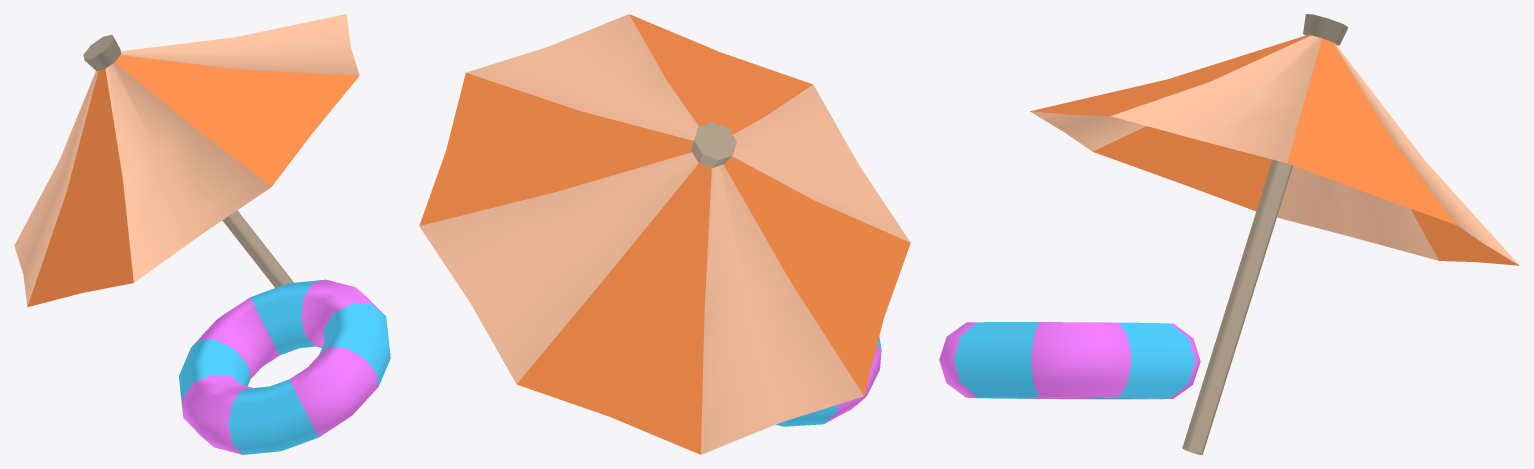
Rendered from prop4.glb.
3 views of the same model, side by side, from view 1: azimuth 30°, elevation 25°; view 2: azimuth 150°, elevation 25°; view 3: azimuth 270°, elevation 25° (orthographic). The views are drawn at different scales.
Visible parts, largest first — view 1: Cylinder.004_bgr_beach.001_0; view 2: Cylinder.004_bgr_beach.001_0; view 3: Cylinder.004_bgr_beach.001_0.
Part boxes in pixels (x1,y1,x2,y2): Cylinder.004_bgr_beach.001_0: [14, 14, 390, 454]; Cylinder.004_bgr_beach.001_0: [419, 14, 910, 454]; Cylinder.004_bgr_beach.001_0: [939, 14, 1519, 454].
Size of the model in its own units: 3.81 by 3.61 by 5.
2 materials, 2 textured.
